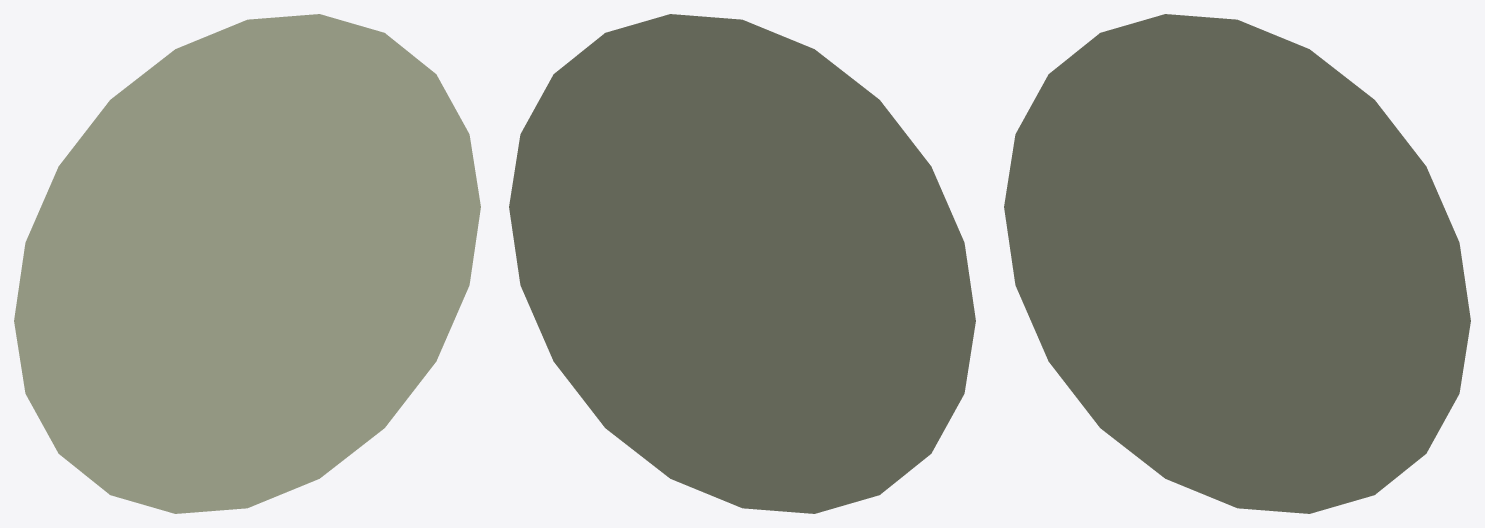
3 views of the same model, side by side, from view 1: azimuth 30°, elevation 25°; view 2: azimuth 150°, elevation 25°; view 3: azimuth 330°, elevation 25° (orthographic).
Visible parts, largest first — view 1: N-Gon2; view 2: N-Gon2; view 3: N-Gon2.
Part boxes in pixels (x1,y1,x2,y2): N-Gon2: (14, 14, 480, 513); N-Gon2: (509, 14, 975, 513); N-Gon2: (1004, 14, 1470, 513).
Bounding box in the file's own units: 2 × 2 × 1.22e-16.
